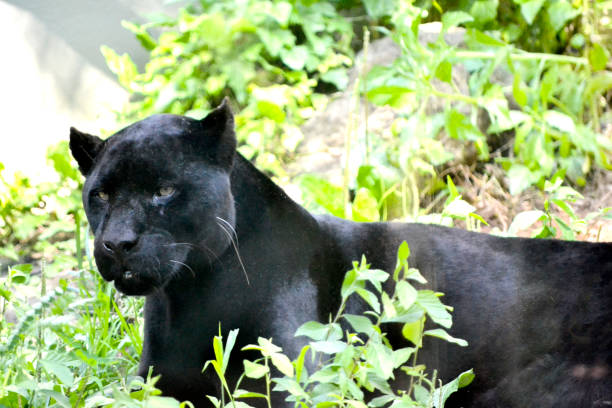panther: (46, 93, 261, 322)
